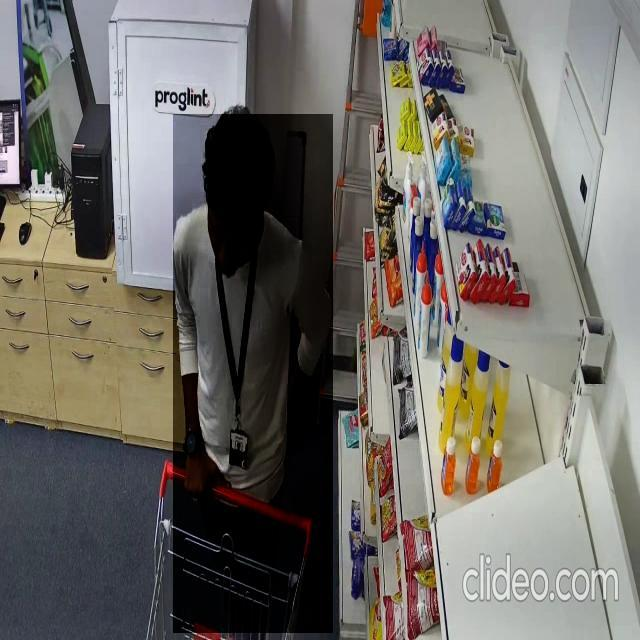Shoplifting: (173, 114, 333, 633)
